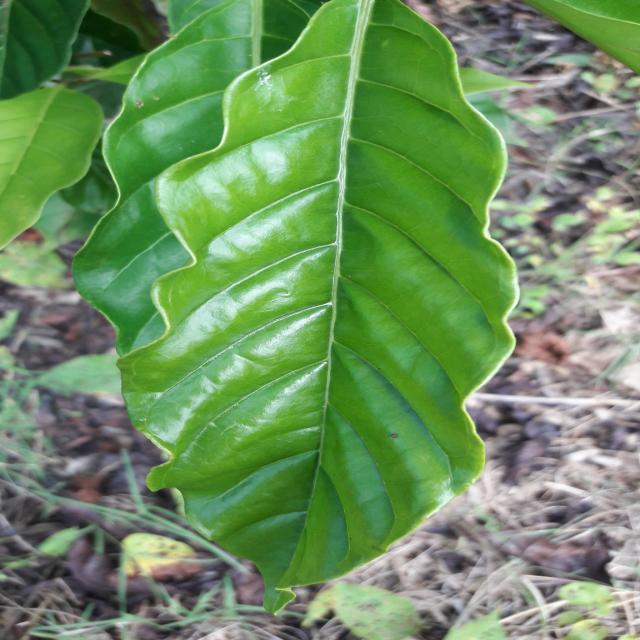Sanas: (117, 0, 519, 610)
